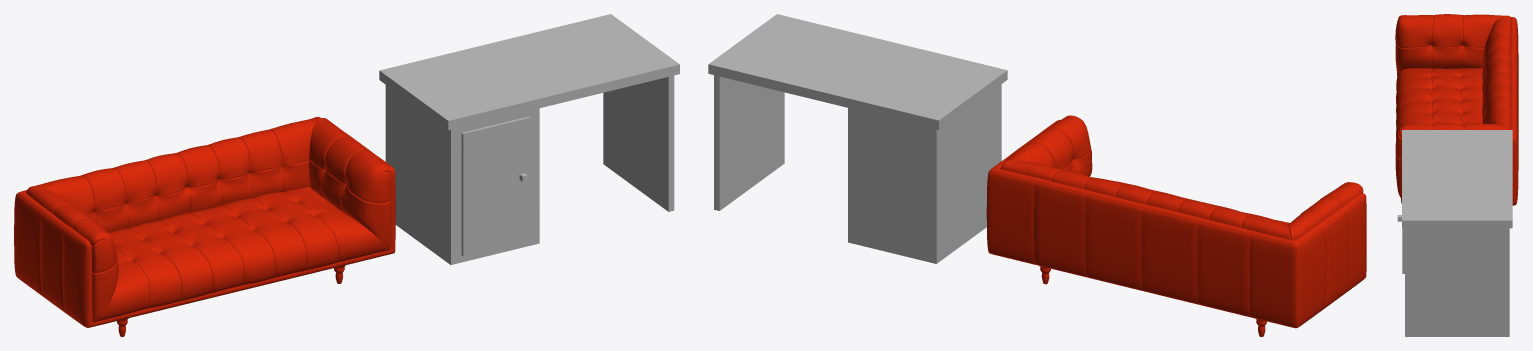
Rendered from Model Combo.glb.
The picture shows the model from 3 angles, left to right: view 1: azimuth 30°, elevation 25°; view 2: azimuth 150°, elevation 25°; view 3: azimuth 270°, elevation 25°; orthographic projection. The views are drawn at different scales.
Parts seen in each view (by area): view 1: Sofa, desk1, door1; view 2: desk1, Sofa; view 3: desk1, Sofa, door1.
Part boxes in pixels (x1,y1,x2,y2): Sofa: (14, 116, 395, 336); desk1: (379, 14, 679, 264); door1: (461, 116, 530, 256); desk1: (708, 14, 1007, 263); Sofa: (986, 115, 1366, 336); desk1: (1402, 130, 1512, 336); Sofa: (1395, 14, 1518, 205); door1: (1397, 215, 1404, 273).
Size of the model in its own units: 4.14 by 0.9729 by 0.9227.
